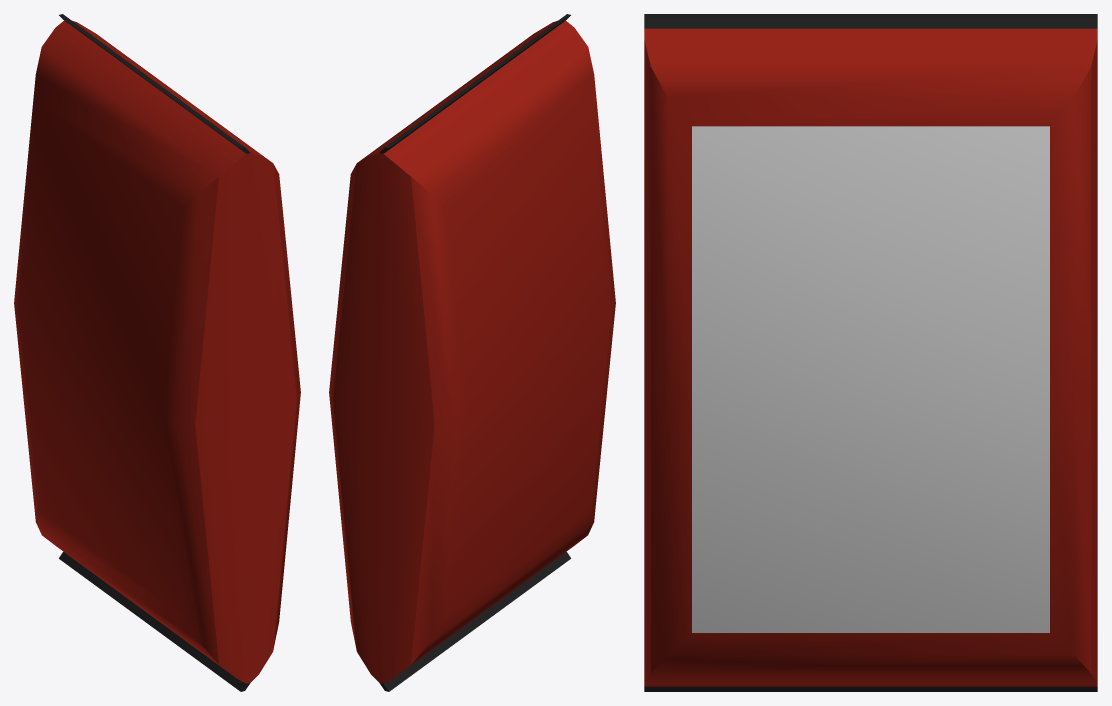
The model's file is SM_Snacks.fbx.
The picture shows the model from 3 angles, left to right: view 1: azimuth 30°, elevation 25°; view 2: azimuth 150°, elevation 25°; view 3: azimuth 270°, elevation 25°; orthographic projection. The views are drawn at different scales.
Visible parts, largest first — view 1: SM_Snacks; view 2: SM_Snacks; view 3: SM_Snacks.
Part boxes in pixels (left/top/right/bottom): SM_Snacks: left=14, top=14, right=300, bottom=691; SM_Snacks: left=329, top=14, right=615, bottom=691; SM_Snacks: left=644, top=14, right=1097, bottom=691.
Size of the model in its own units: 7.39 by 29.13 by 17.71.
